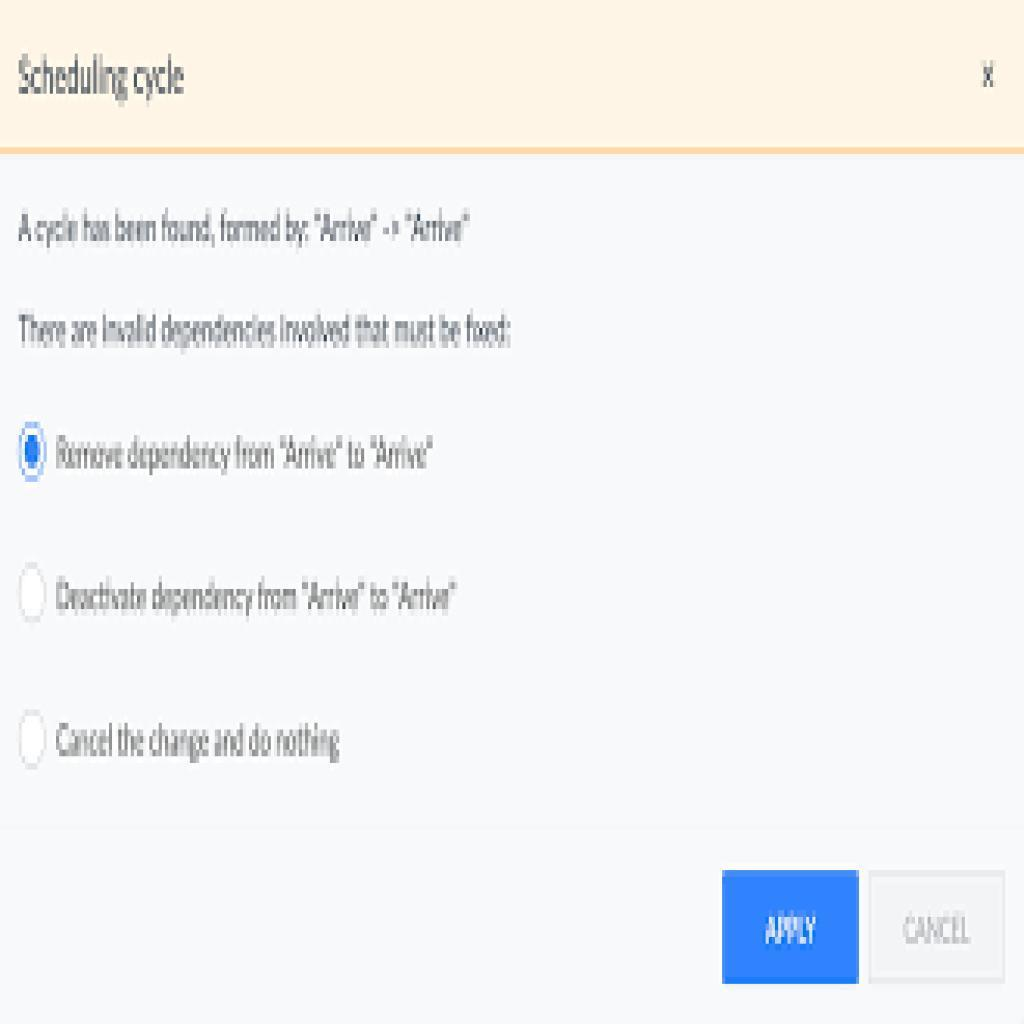button: (867, 871, 1009, 985), (724, 873, 858, 982)
radio: (12, 703, 53, 777), (15, 560, 48, 633), (19, 407, 47, 492)
